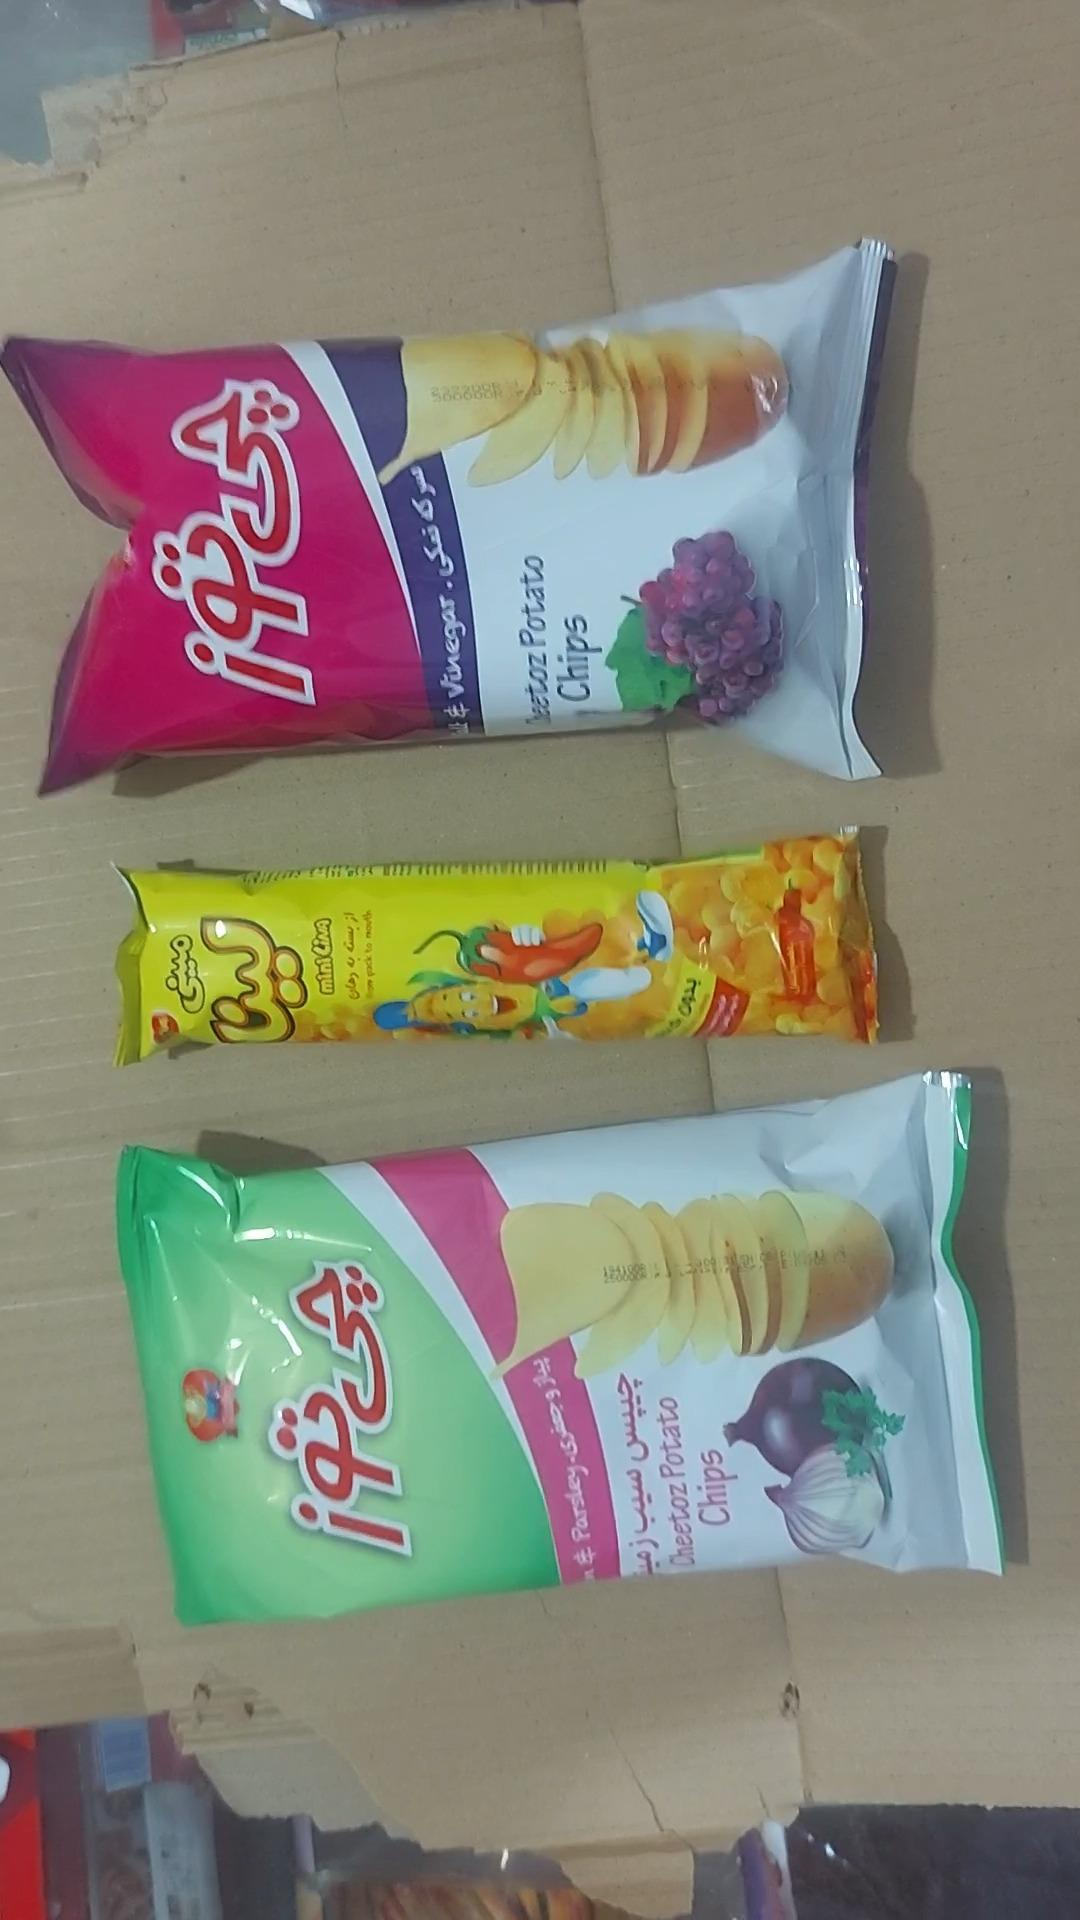Cheetoz onion and parsley chips: (117, 1073, 1002, 1625)
Cheetoz vinegar chips: (0, 241, 893, 791)
Mini Lina: (115, 833, 878, 1065)
